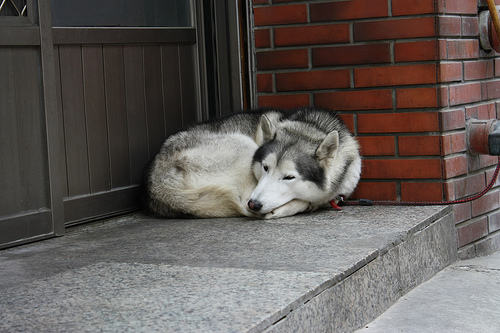dog: (142, 104, 365, 222)
